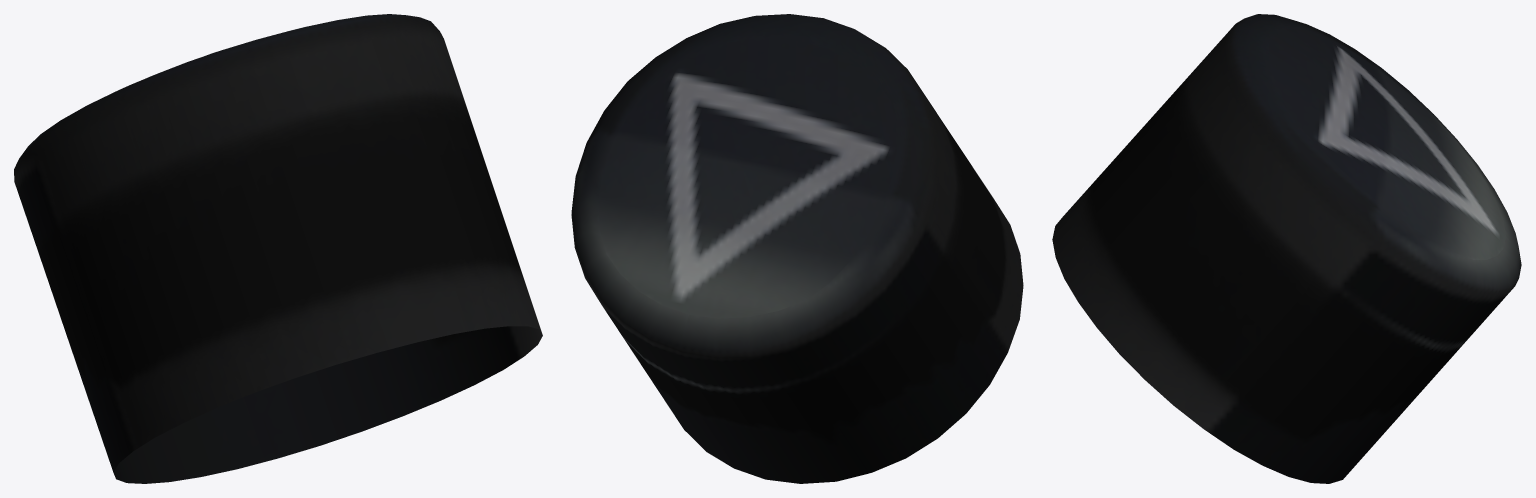
The model's file is playstation_vr2_sense_left_triangle.obj.
The picture shows the model from 3 angles, left to right: view 1: azimuth 30°, elevation 25°; view 2: azimuth 150°, elevation 25°; view 3: azimuth 270°, elevation 25°; orthographic projection. The views are drawn at different scales.
Parts seen in each view (by area): view 1: mesh_triangle_button_L; view 2: mesh_triangle_button_L; view 3: mesh_triangle_button_L.
Part boxes in pixels (x1=…): mesh_triangle_button_L: x1=14, y1=14, x2=542, y2=483; mesh_triangle_button_L: x1=571, y1=14, x2=1023, y2=483; mesh_triangle_button_L: x1=1052, y1=14, x2=1521, y2=483.
Bounding box in the file's own units: 0.00761 × 0.00903 × 0.00923.
Materials: 1 (1 with a texture image).
